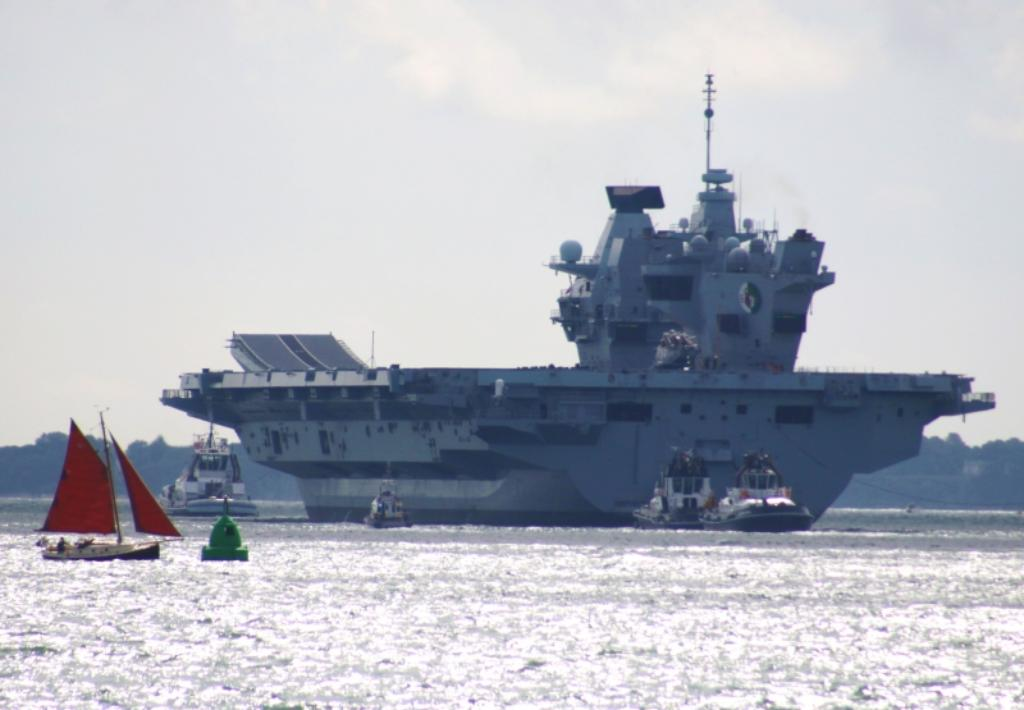PassengerShip: (149, 428, 265, 520)
